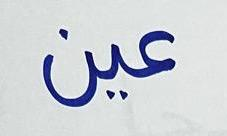ain: (128, 27, 178, 82)
noon: (39, 24, 97, 108)
yeh: (98, 33, 128, 101)
